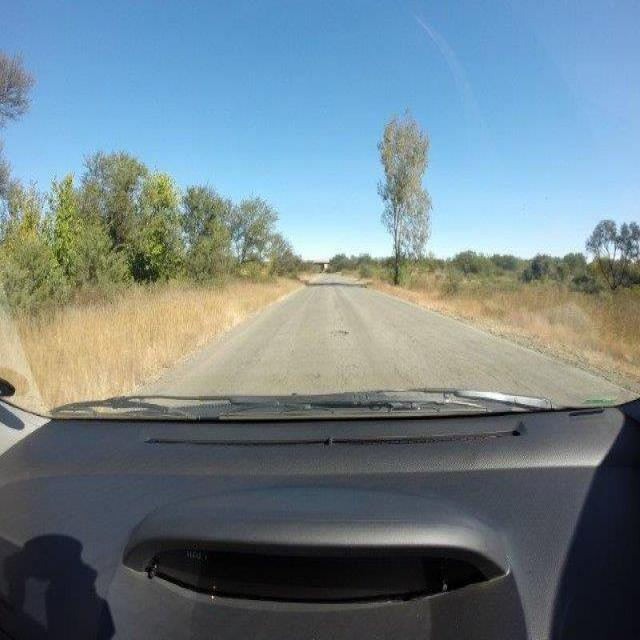lubang: (328, 326, 347, 334)
